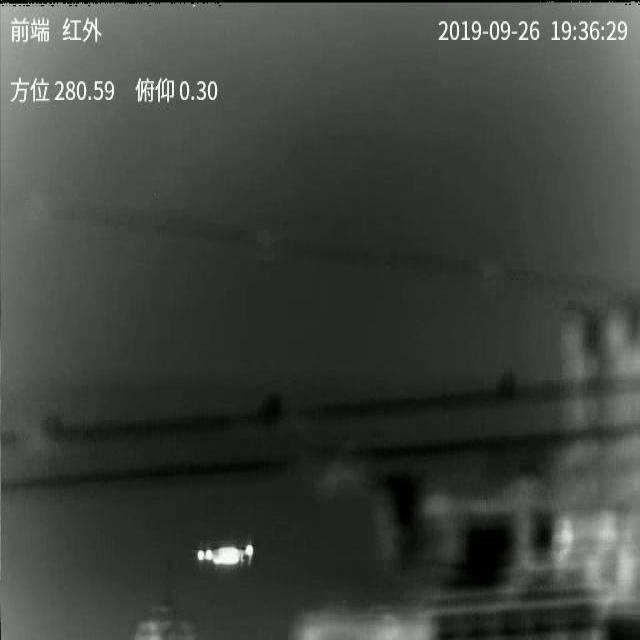drone: (190, 544, 254, 566)
